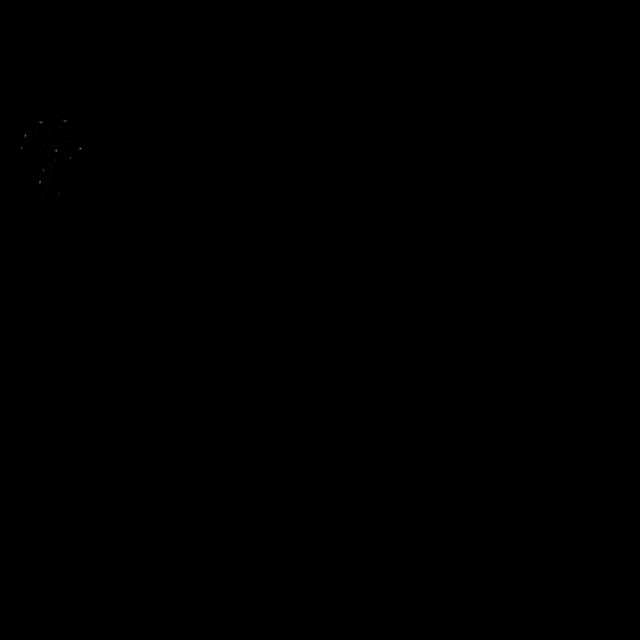medium_debris: (8, 101, 102, 211)
